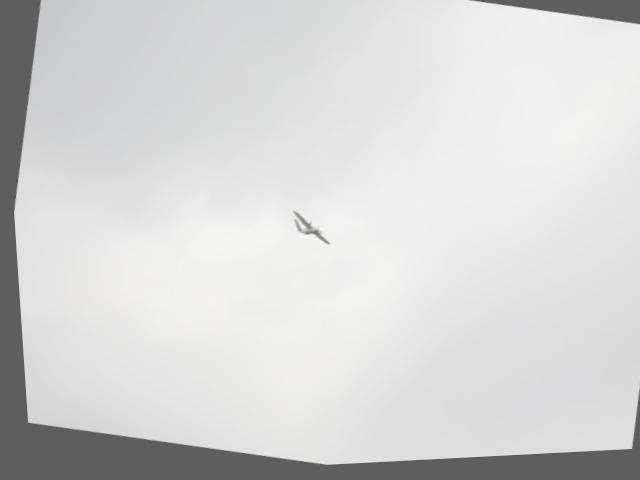plane: (284, 210, 332, 251)
